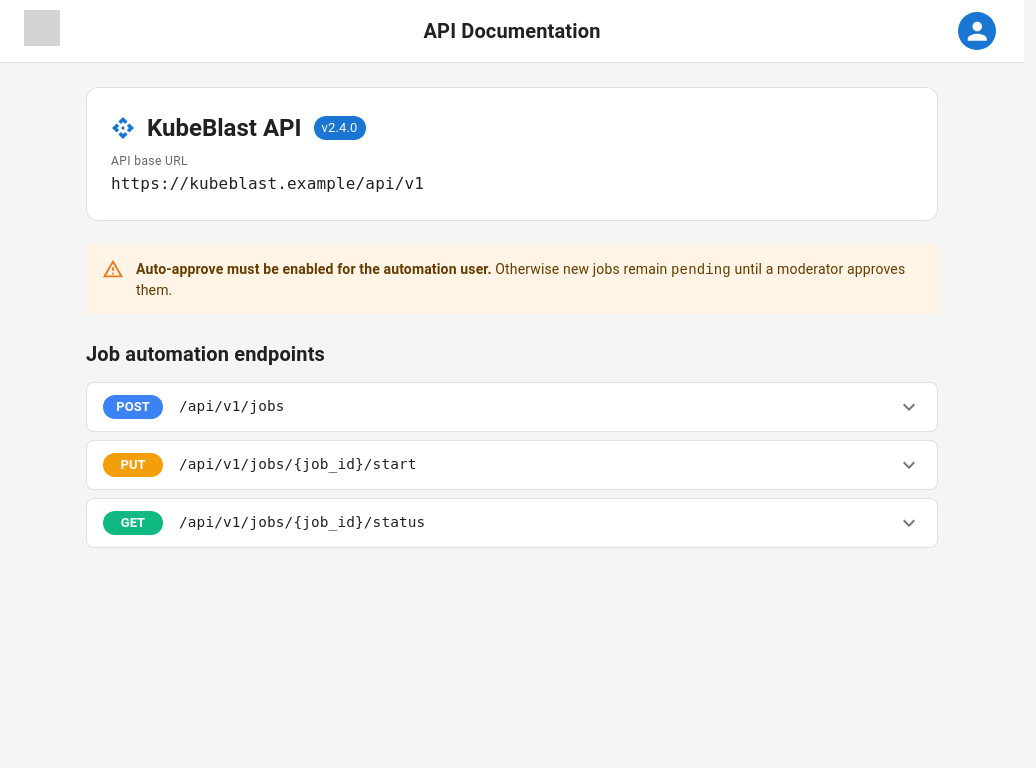
ApiDocs › shows compact request and response fields inside the create-job endpoint
Click the button "POST /api/v1/jobs".
click(133, 407)  # box x1=87 y1=383 x2=937 y2=431
(page scrolled)
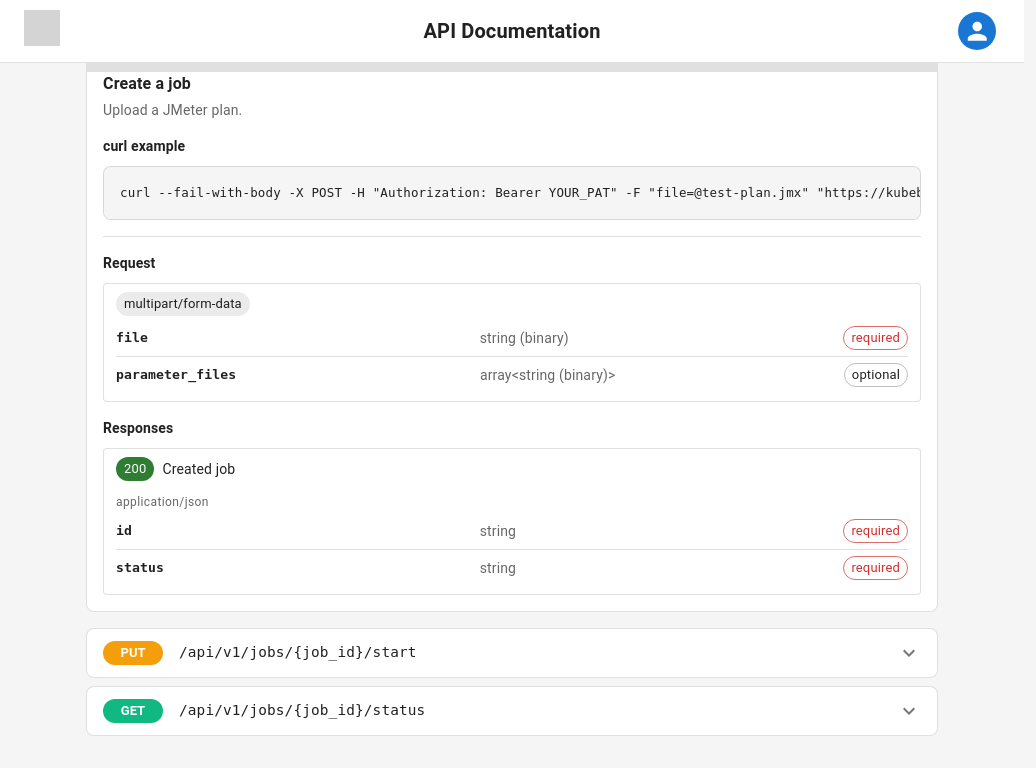
Expected: the heading "Request" is shown, x1=103 y1=255 x2=156 y2=271
Expected: the text "multipart/form-data" is shown, x1=116 y1=294 x2=250 y2=314
Expected: the text "file" is shown, x1=116 y1=330 x2=148 y2=345
